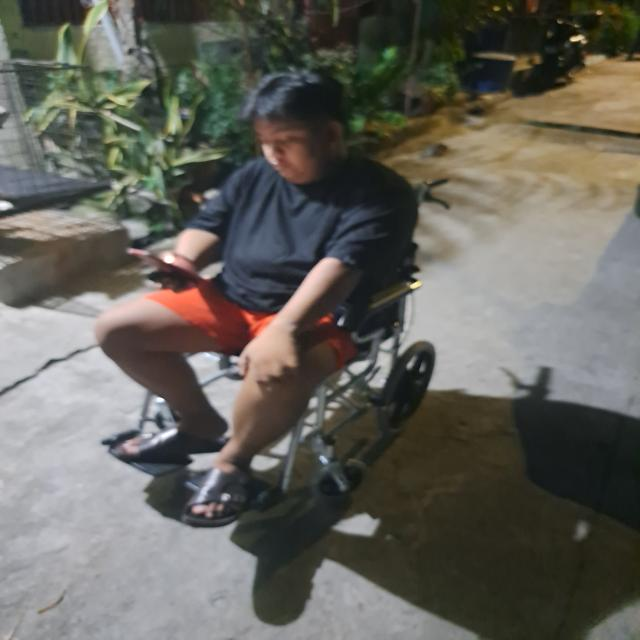wheelchairs: (124, 289, 452, 529)
